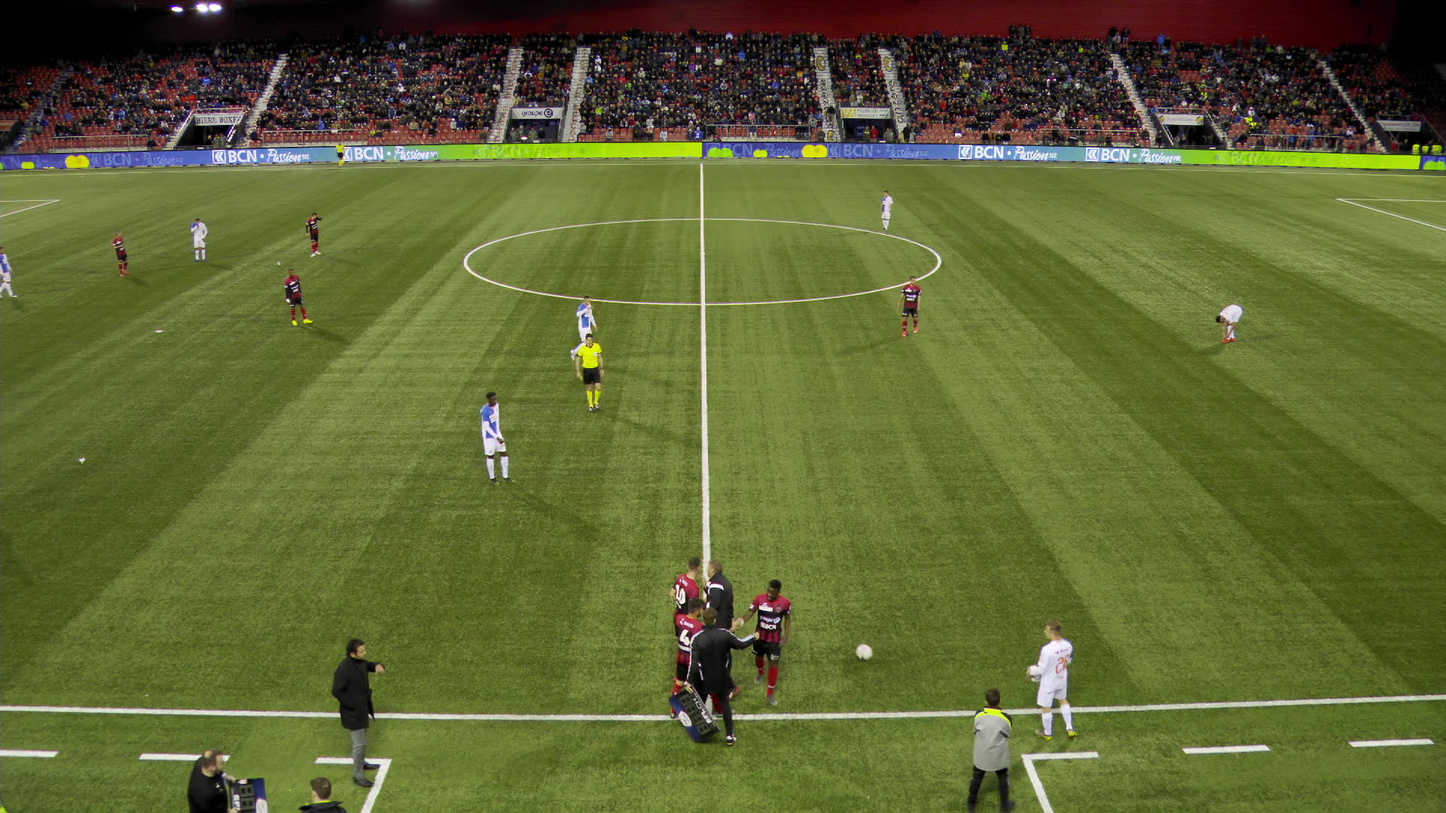ball: (700, 560, 738, 699), (1025, 666, 1040, 684), (854, 643, 869, 657)
player: (734, 577, 791, 703), (1027, 620, 1076, 741), (669, 599, 709, 718), (480, 391, 511, 486), (670, 557, 703, 640), (570, 295, 599, 358), (284, 269, 312, 324), (898, 276, 921, 336), (1216, 304, 1243, 343), (0, 246, 17, 297), (112, 230, 129, 276), (190, 218, 207, 262), (304, 212, 321, 256), (880, 190, 892, 230)
referee: (575, 333, 603, 413), (335, 141, 344, 167)
